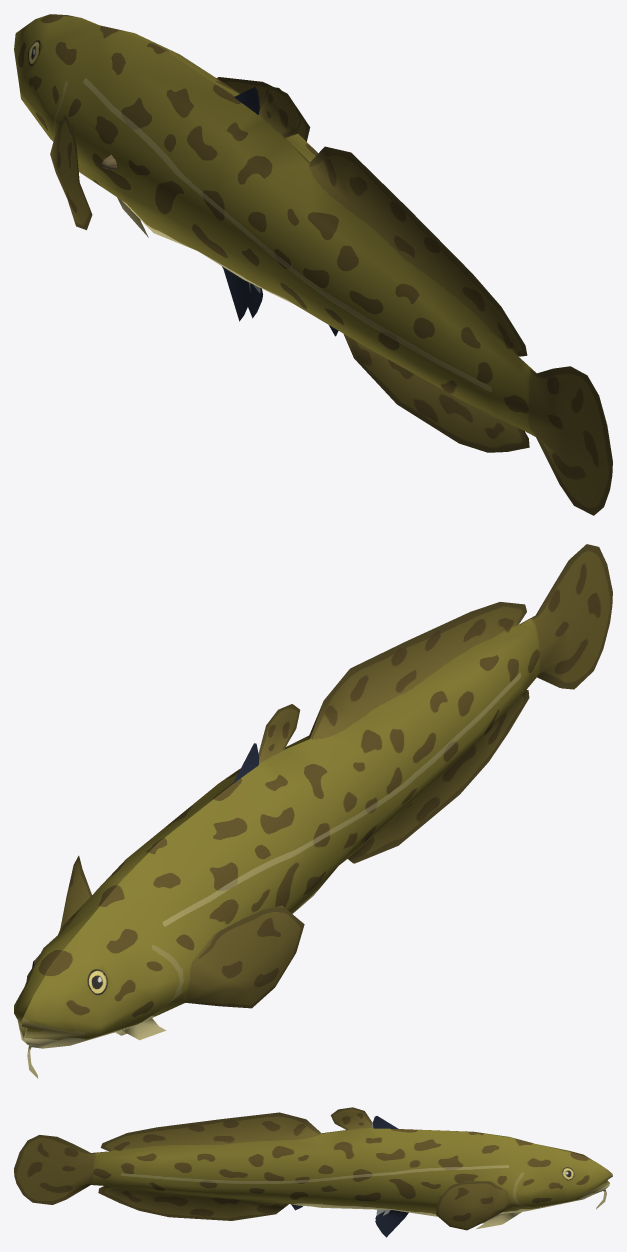
Rendered from lakeWhitefish00.fbx.
The picture shows the model from 3 angles, top to bottom: view 1: azimuth 30°, elevation 25°; view 2: azimuth 150°, elevation 25°; view 3: azimuth 270°, elevation 25°; orthographic projection. The views are drawn at different scales.
Visible parts, largest first — view 1: Burbot_final, cohoSalmon_final; view 2: Burbot_final; view 3: Burbot_final, cohoSalmon_final.
Boxes of the visible parts, <box> form: Burbot_final: <box>14,14,612,515</box>; cohoSalmon_final: <box>222,87,338,336</box>; Burbot_final: <box>14,544,612,1078</box>; Burbot_final: <box>14,1107,612,1230</box>; cohoSalmon_final: <box>291,1116,408,1237</box>.
Size of the model in its own units: 0.4357 by 0.4661 by 1.97.
